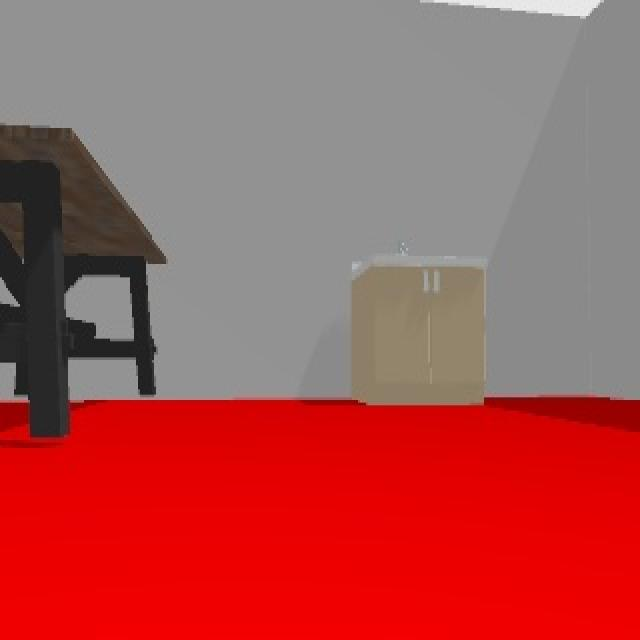dining: (0, 117, 162, 443)
